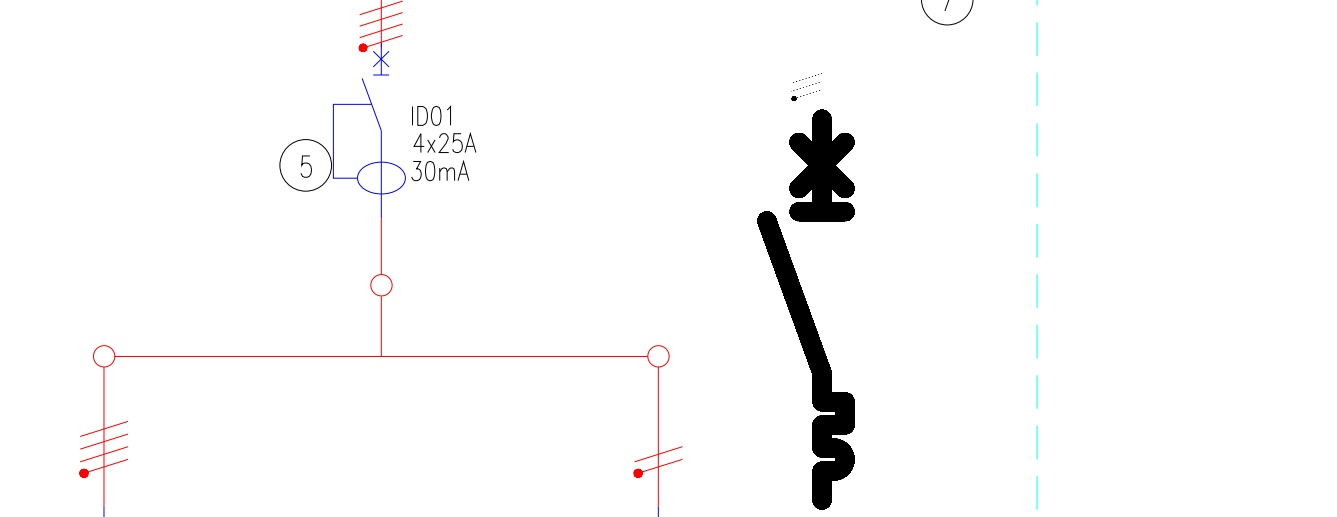interruptor_termomagnetico: (757, 109, 855, 509)
